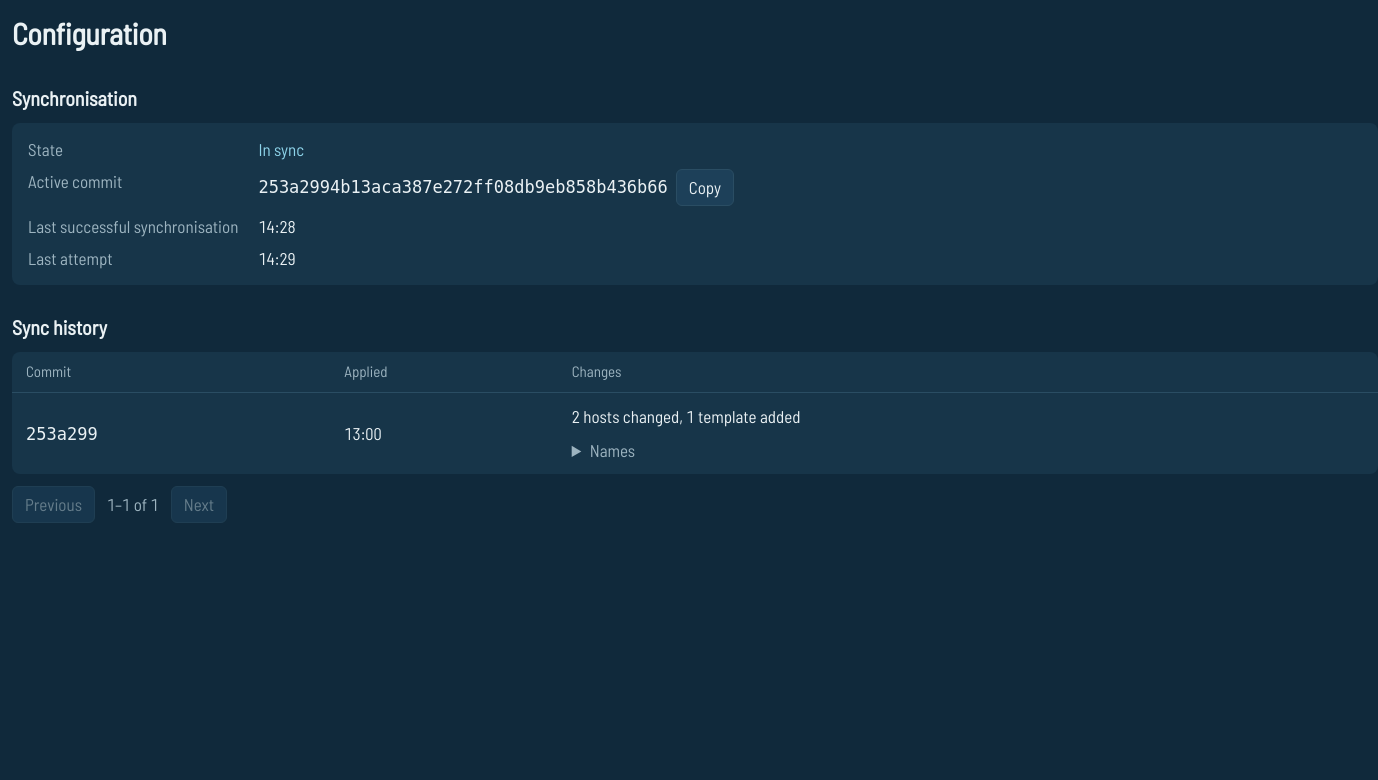
Test: sync history › lists the names per group below, as text
What coordinates should you click on to do the following:
click the heading "Names"
I would click on:
 (612, 450)
Its box is x1=590 y1=440 x2=635 y2=460.
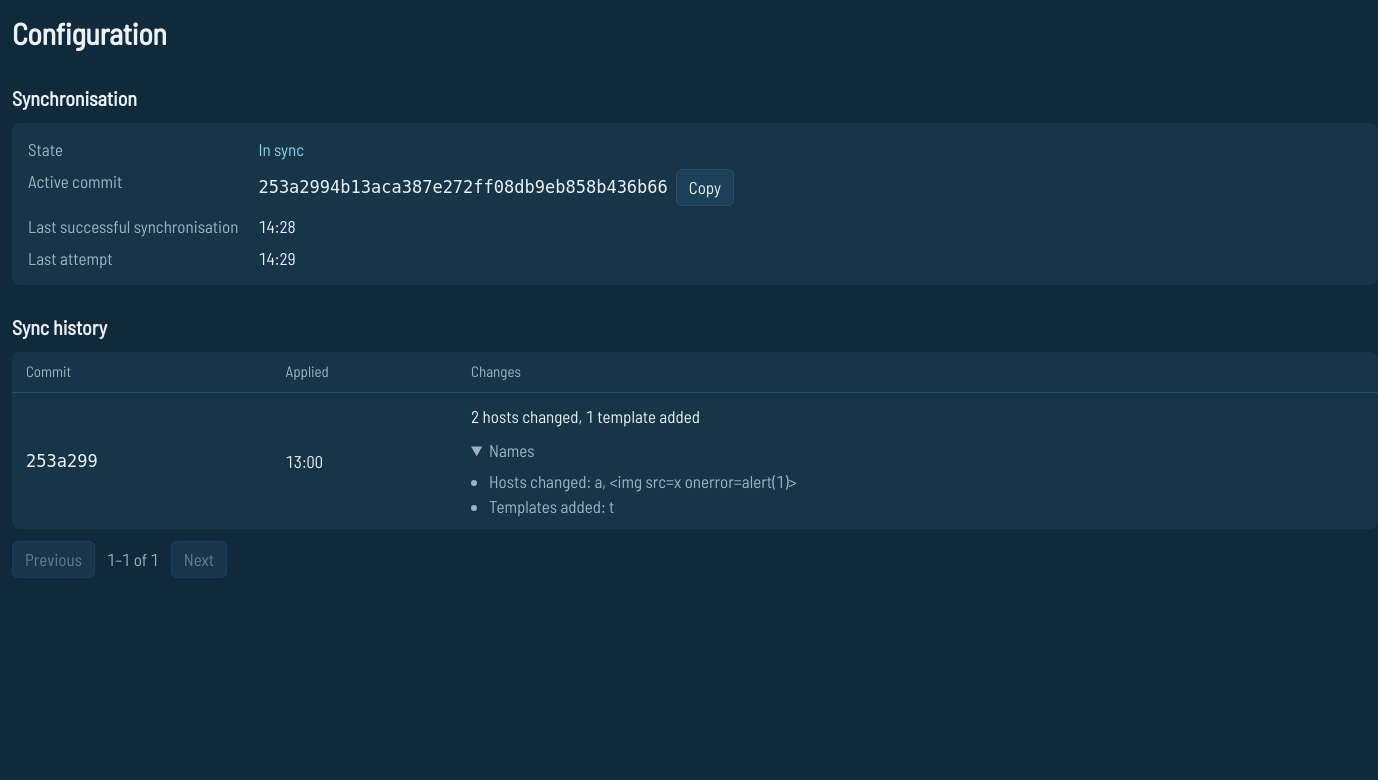
Expected: the list item "Templates added: t" is shown, x1=489 y1=496 x2=614 y2=516
